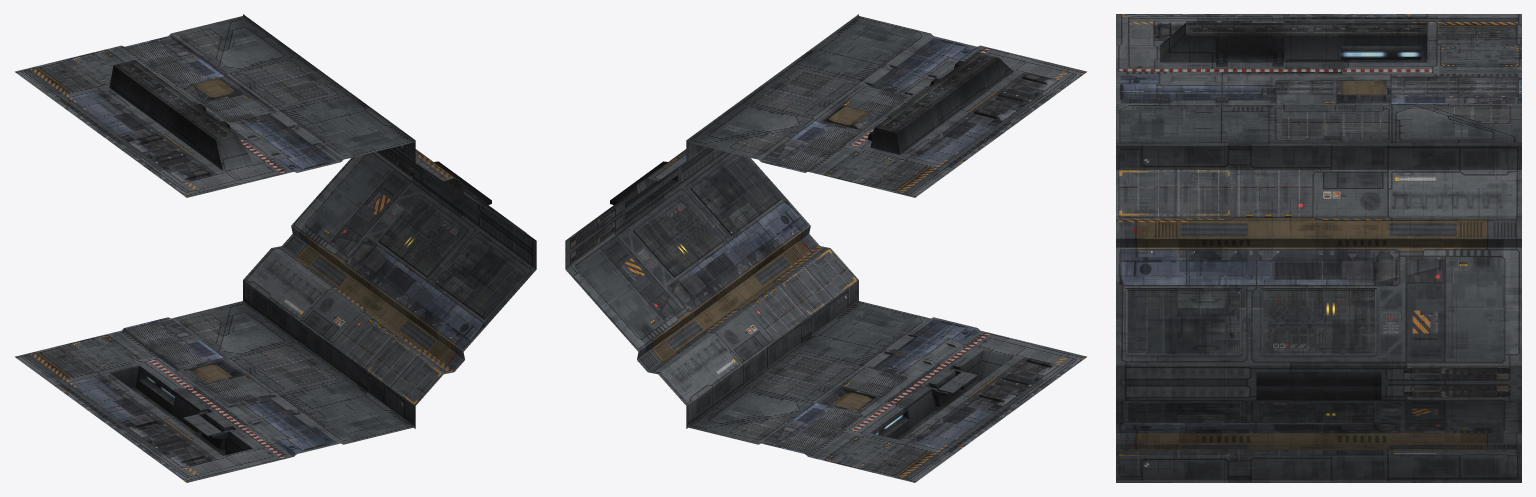
Rendered from HANGER_SUPPORT_WALL..fbx.
3 renders of one model, left to right at view 1: azimuth 30°, elevation 25°; view 2: azimuth 150°, elevation 25°; view 3: azimuth 270°, elevation 25°, orthographic. The views are drawn at different scales.
Parts seen in each view (by area): view 1: Mod_Hangar-Hull; view 2: Mod_Hangar-Hull; view 3: Mod_Hangar-Hull.
Boxes of the visible parts, left/top/right/bottom form: Mod_Hangar-Hull: left=15, top=14, right=536, bottom=482; Mod_Hangar-Hull: left=565, top=14, right=1086, bottom=482; Mod_Hangar-Hull: left=1116, top=14, right=1521, bottom=482.
Size of the model in its own units: 143 by 123 by 117.
